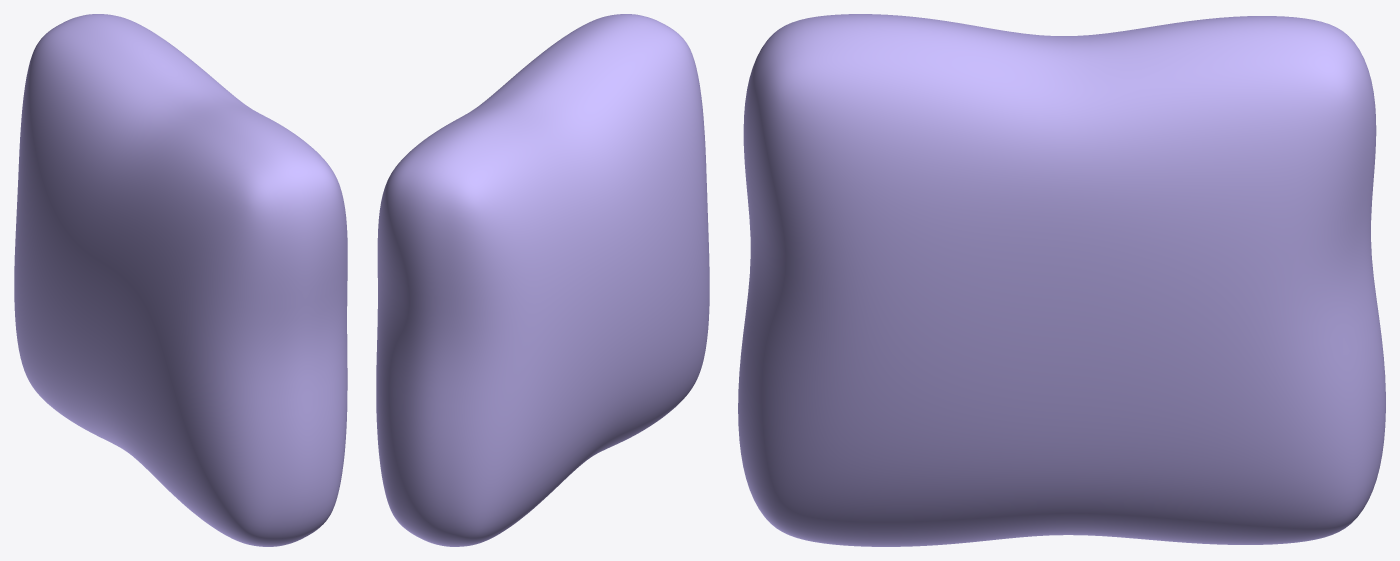
Rendered from pillow1.1.fbx.
3 renders of one model, left to right at view 1: azimuth 30°, elevation 25°; view 2: azimuth 150°, elevation 25°; view 3: azimuth 270°, elevation 25°, orthographic. The views are drawn at different scales.
Parts seen in each view (by area): view 1: bed; view 2: bed; view 3: bed.
Boxes of the visible parts, bbox=[...] form: bed: bbox=[14, 14, 347, 546]; bed: bbox=[376, 14, 709, 546]; bed: bbox=[738, 14, 1385, 546].
Bounding box in the file's own units: 48.82 × 103 × 116.
